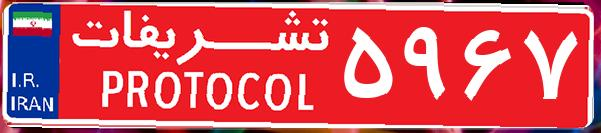5: (340, 20, 400, 115)
6: (460, 20, 520, 115)
7: (520, 20, 580, 115)
9: (400, 20, 460, 115)
تشریفات: (60, 8, 340, 125)
